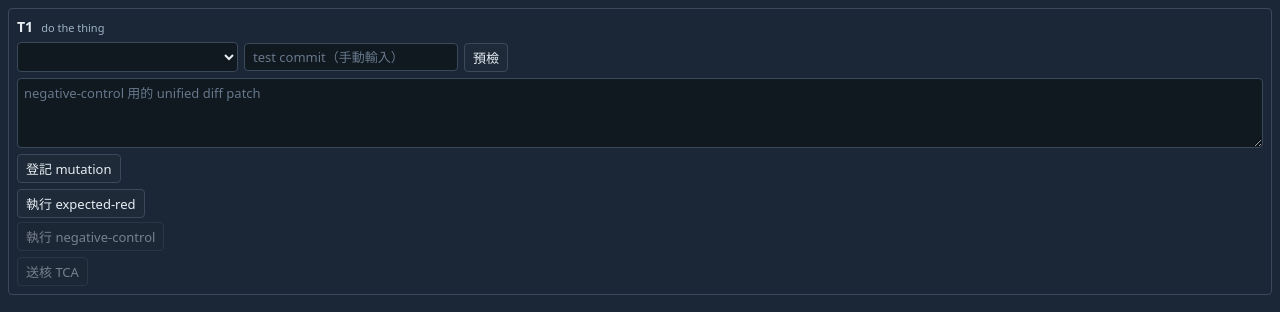
it: TcaWorkspace › 送核 disabled until both expected_red and negative_control evidence runs pass
Expected: the button with test id "submit-tca-T1" is disabled, x1=17 y1=257 x2=88 y2=286
Note: 跑 expected-red：通過
Type "deadbeef00" into the field with test id "test-commit-input-T1".
click(351, 57); type("deadbeef00")  # box x1=244 y1=43 x2=458 y2=71
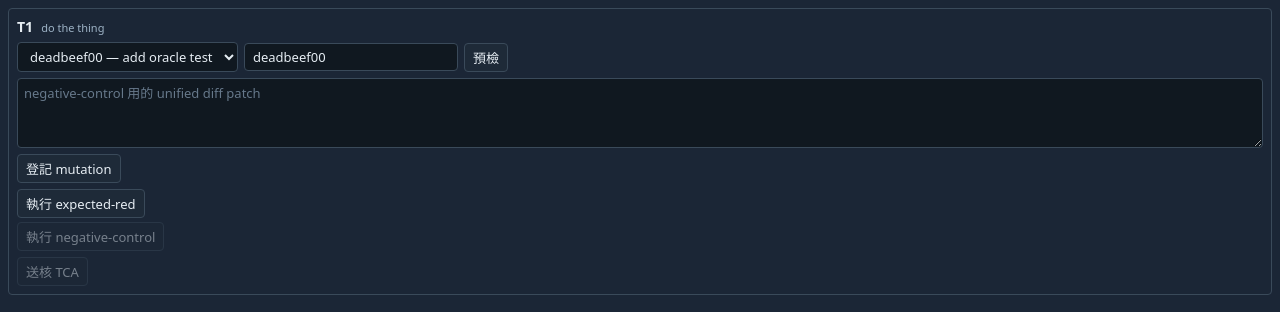
Click the button with test id "run-expected_red-T1".
click(81, 204)  # box x1=17 y1=189 x2=144 y2=218
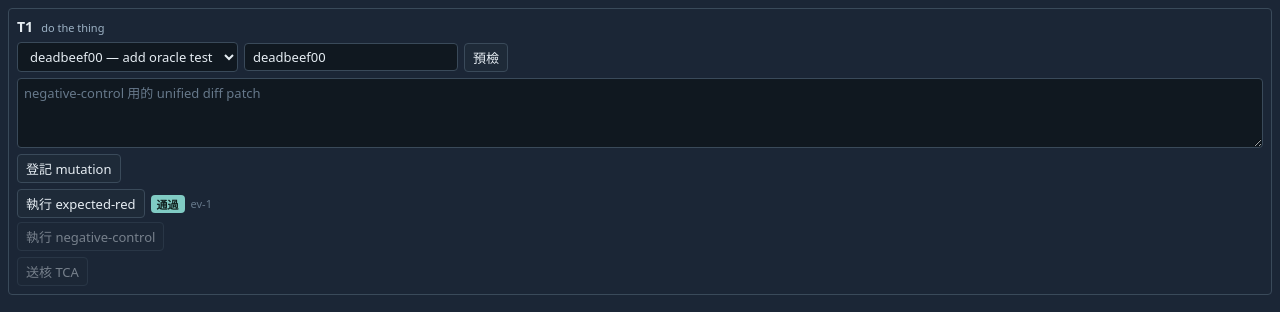
Expected: the button with test id "submit-tca-T1" is disabled, x1=17 y1=257 x2=88 y2=286
Expected: the text with test id "run-result-expected_red-T1" reads "通過", x1=156 y1=196 x2=178 y2=212
Type "diff --git a/x b/x" into the text box with test id "mutation-patch-T1".
click(640, 113); type("diff --git a/x b/x")  # box x1=17 y1=78 x2=1263 y2=148
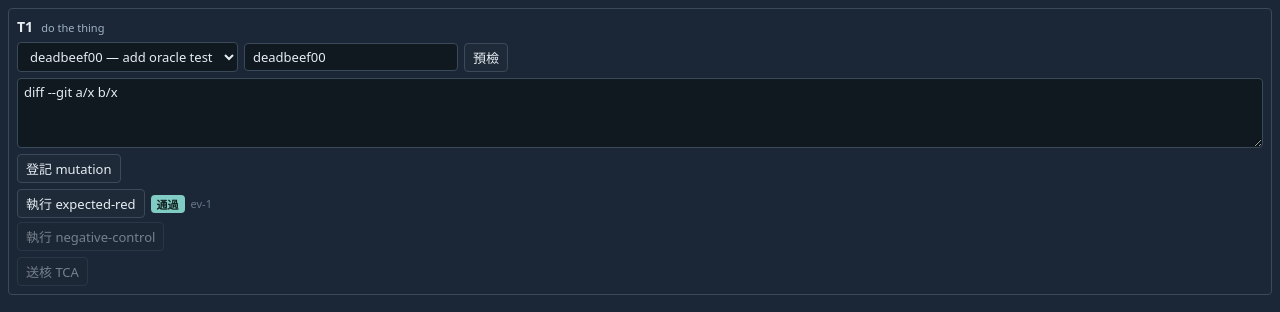
Click the button with test id "register-mutation-T1".
click(69, 168)  # box x1=17 y1=154 x2=120 y2=183
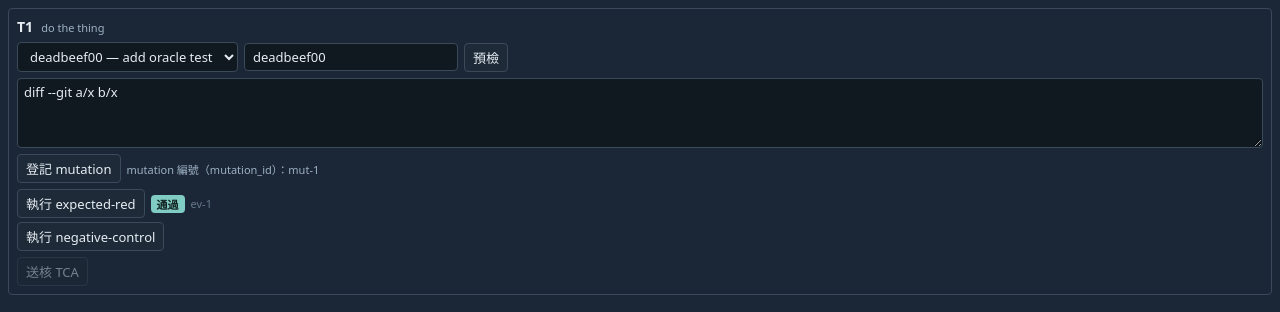
Expected: the text with test id "mutation-id-T1" shows "mut-1", x1=126 y1=162 x2=319 y2=176
Expected: the button with test id "run-negative_control-T1" is enabled
Click the button with test id "run-negative_control-T1".
click(91, 236)  # box x1=17 y1=222 x2=164 y2=251
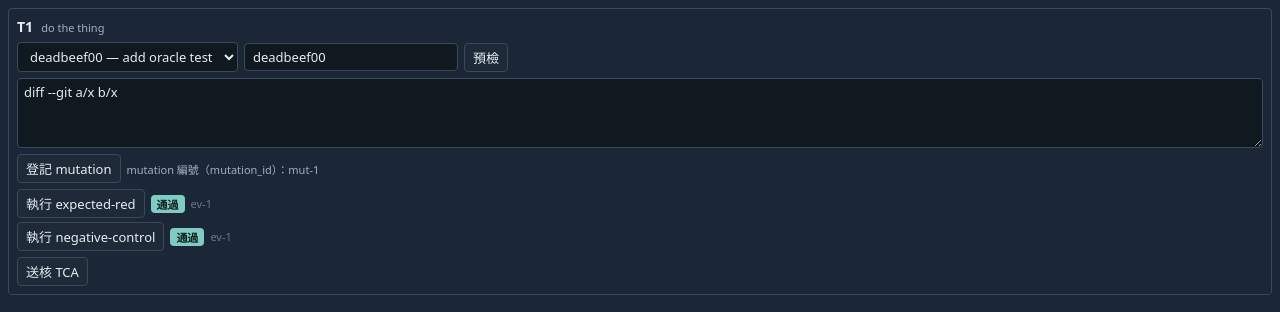
Expected: the button with test id "submit-tca-T1" is enabled
Click the button with test id "submit-tca-T1".
click(52, 272)  # box x1=17 y1=257 x2=88 y2=286
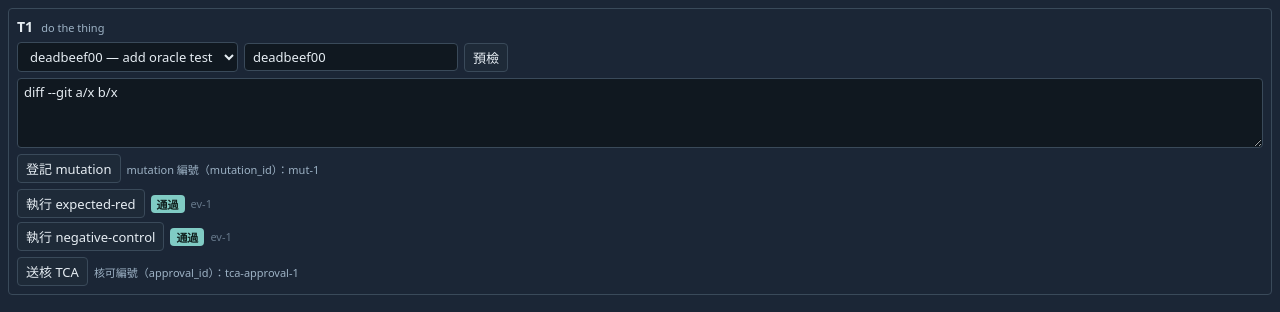
Expected: the text with test id "submit-result-T1" shows "tca-approval-1", x1=94 y1=264 x2=299 y2=280
